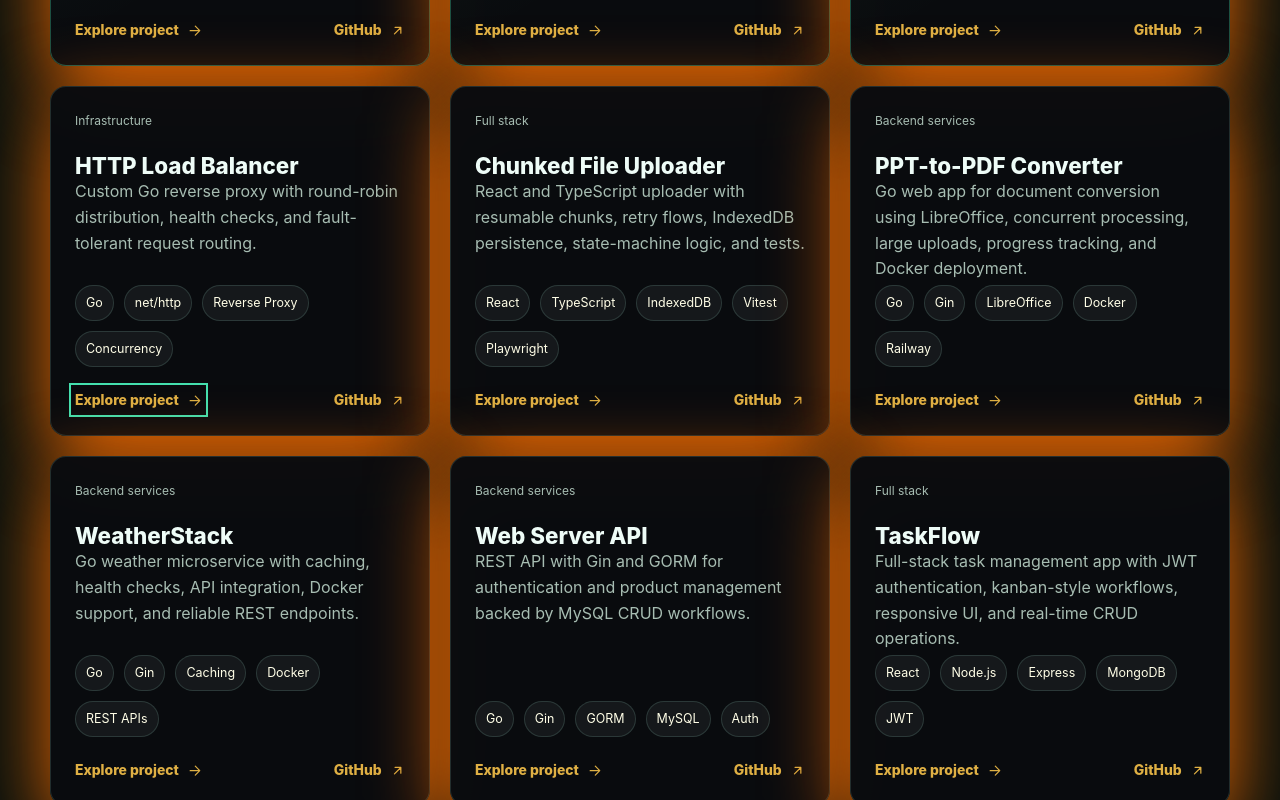
Test: project details support deep links, Escape, and focus restoration
The image size is (1280, 800).
(page scrolled)
Step 1. Click the button with aria-label "Explore HTTP Load Balancer" → click(139, 400), box [75,389,202,411]
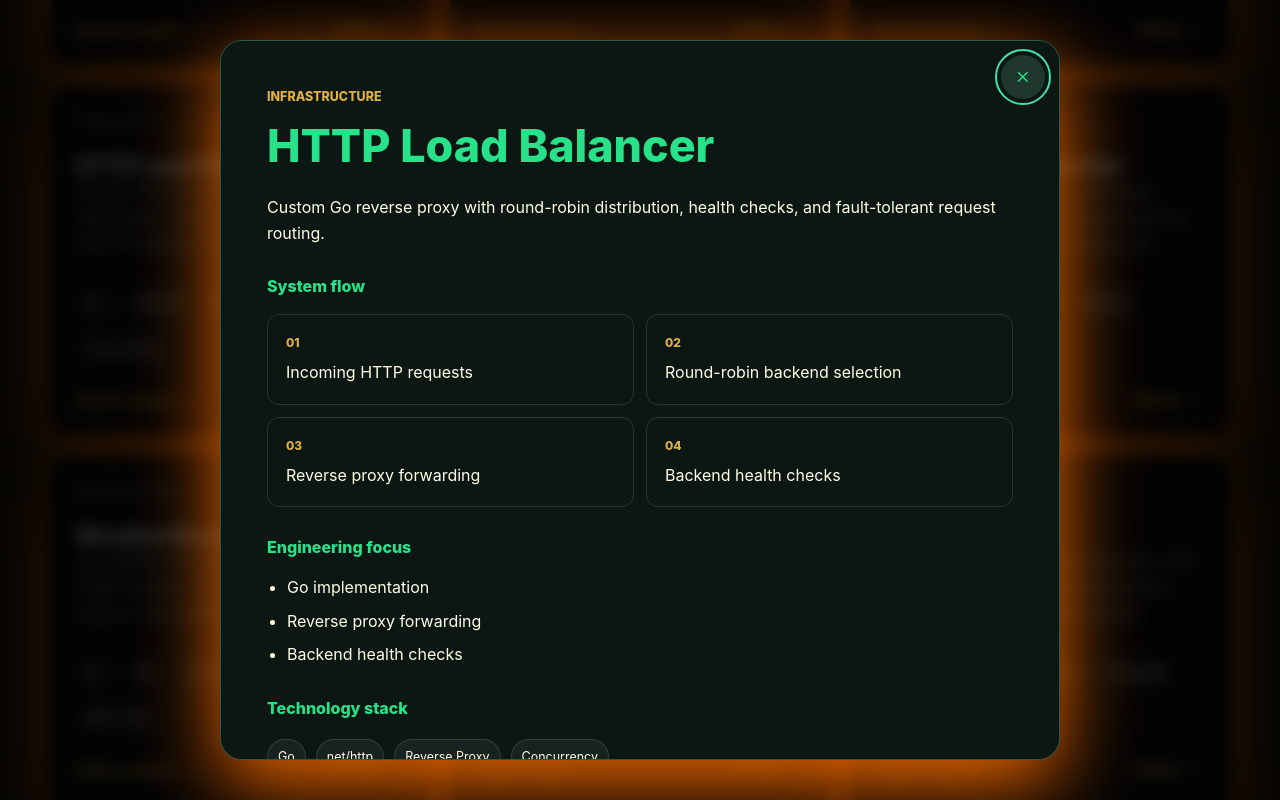
Expected: the list item "Round-robin backend selection" is shown, [665,362,902,382]
Step 2. Press Escape
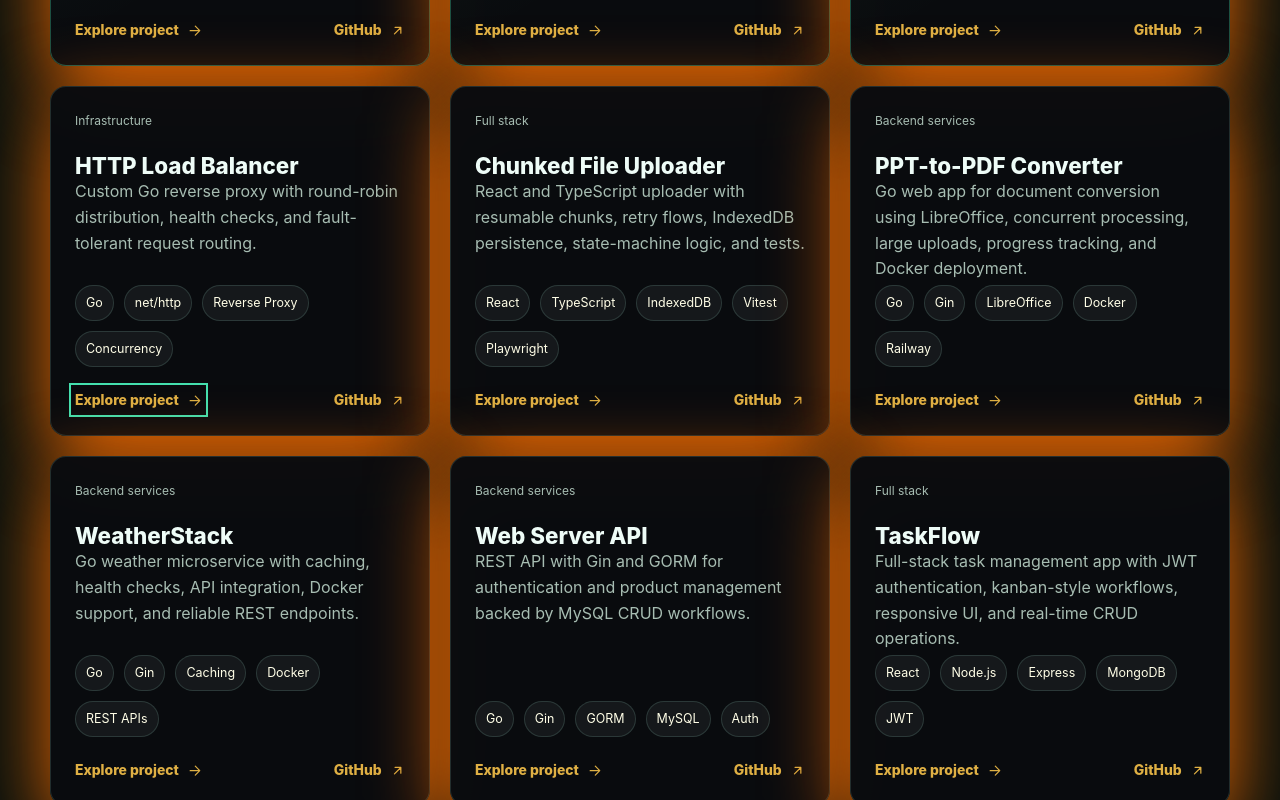
Expected: the dialog is gone
